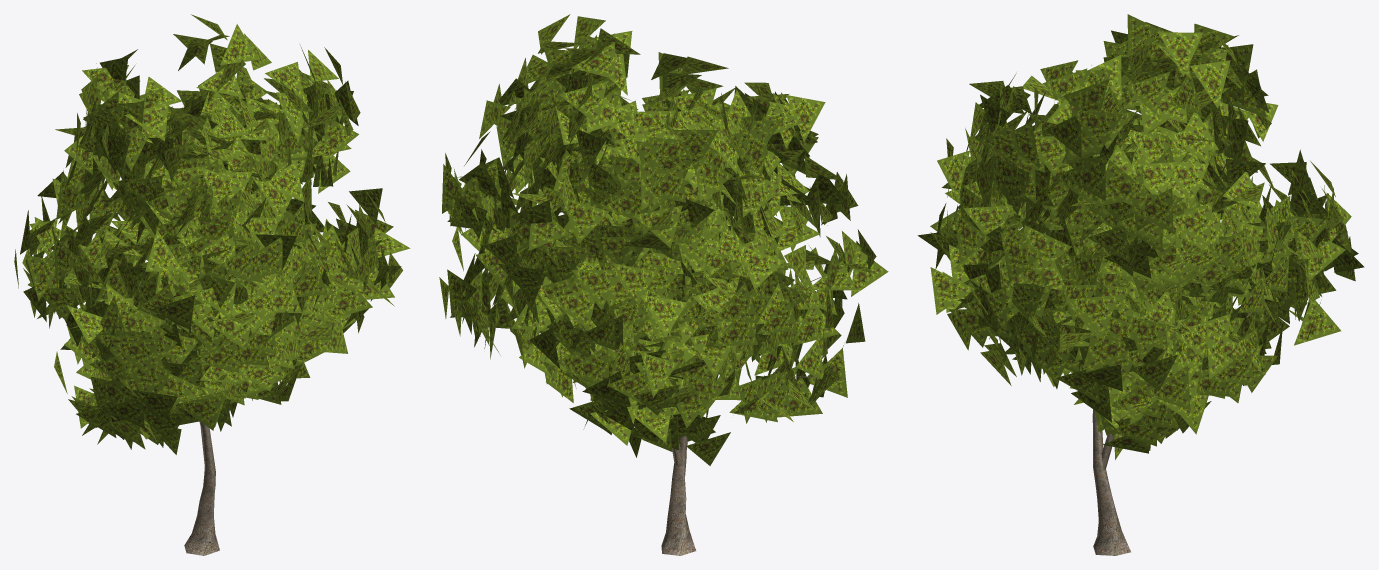
Rendered from Ginkgo_Biloba_Spring_Young.glb.
The picture shows the model from 3 angles, left to right: view 1: azimuth 30°, elevation 25°; view 2: azimuth 150°, elevation 25°; view 3: azimuth 270°, elevation 25°; orthographic projection. The views are drawn at different scales.
Visible parts, largest first — view 1: Ginkgo_Biloba_Spring_Young__LOD3; view 2: Ginkgo_Biloba_Spring_Young__LOD3; view 3: Ginkgo_Biloba_Spring_Young__LOD3.
Boxes of the visible parts, bbox=[...] form: Ginkgo_Biloba_Spring_Young__LOD3: bbox=[14, 14, 410, 555]; Ginkgo_Biloba_Spring_Young__LOD3: bbox=[439, 14, 888, 555]; Ginkgo_Biloba_Spring_Young__LOD3: bbox=[917, 14, 1364, 555].
Size of the model in its own units: 9.29 by 12.45 by 9.4.
2 materials, 2 textured.
